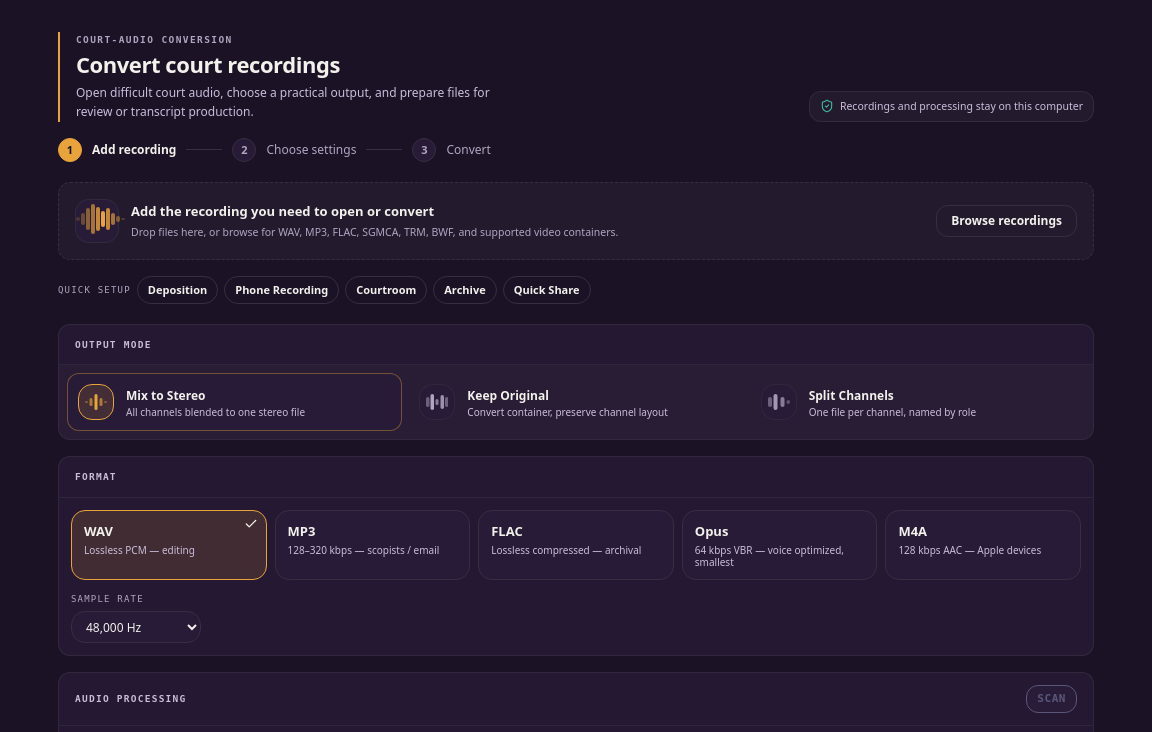
it: ConvertTab scan cancellation › leads with the court-audio task, local-processing boundary, and a native browse action
Check: the heading "Convert court recordings" is shown, box x1=76 y1=49 x2=340 y2=79
Check: the text "Recordings and processing stay on this computer" is shown, box x1=809 y1=91 x2=1094 y2=122
Click the button with aria-label "Add audio files: browse for recordings" at (1007, 221), box x1=936 y1=205 x2=1077 y2=237
(page scrolled)
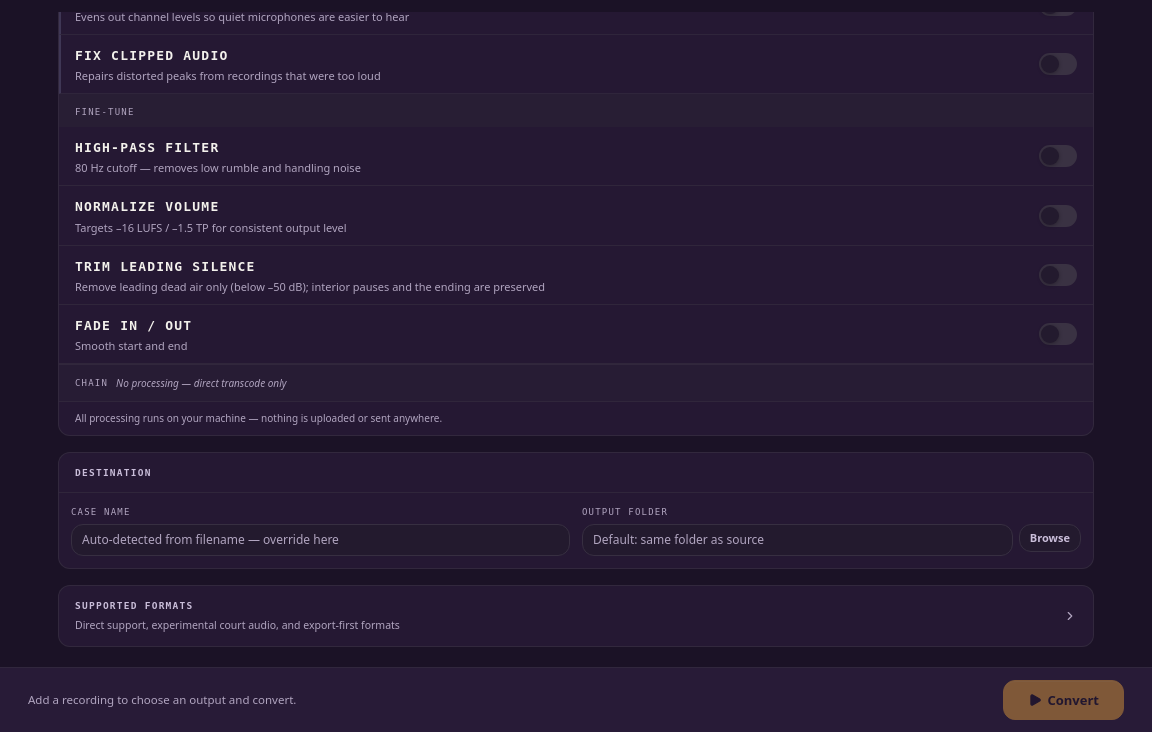
Check: the button "Convert" is disabled, box x1=1002 y1=680 x2=1124 y2=720
Check: the message named "Conversion status" reads "Add a recording to choose an output and convert.", box x1=28 y1=692 x2=296 y2=707
